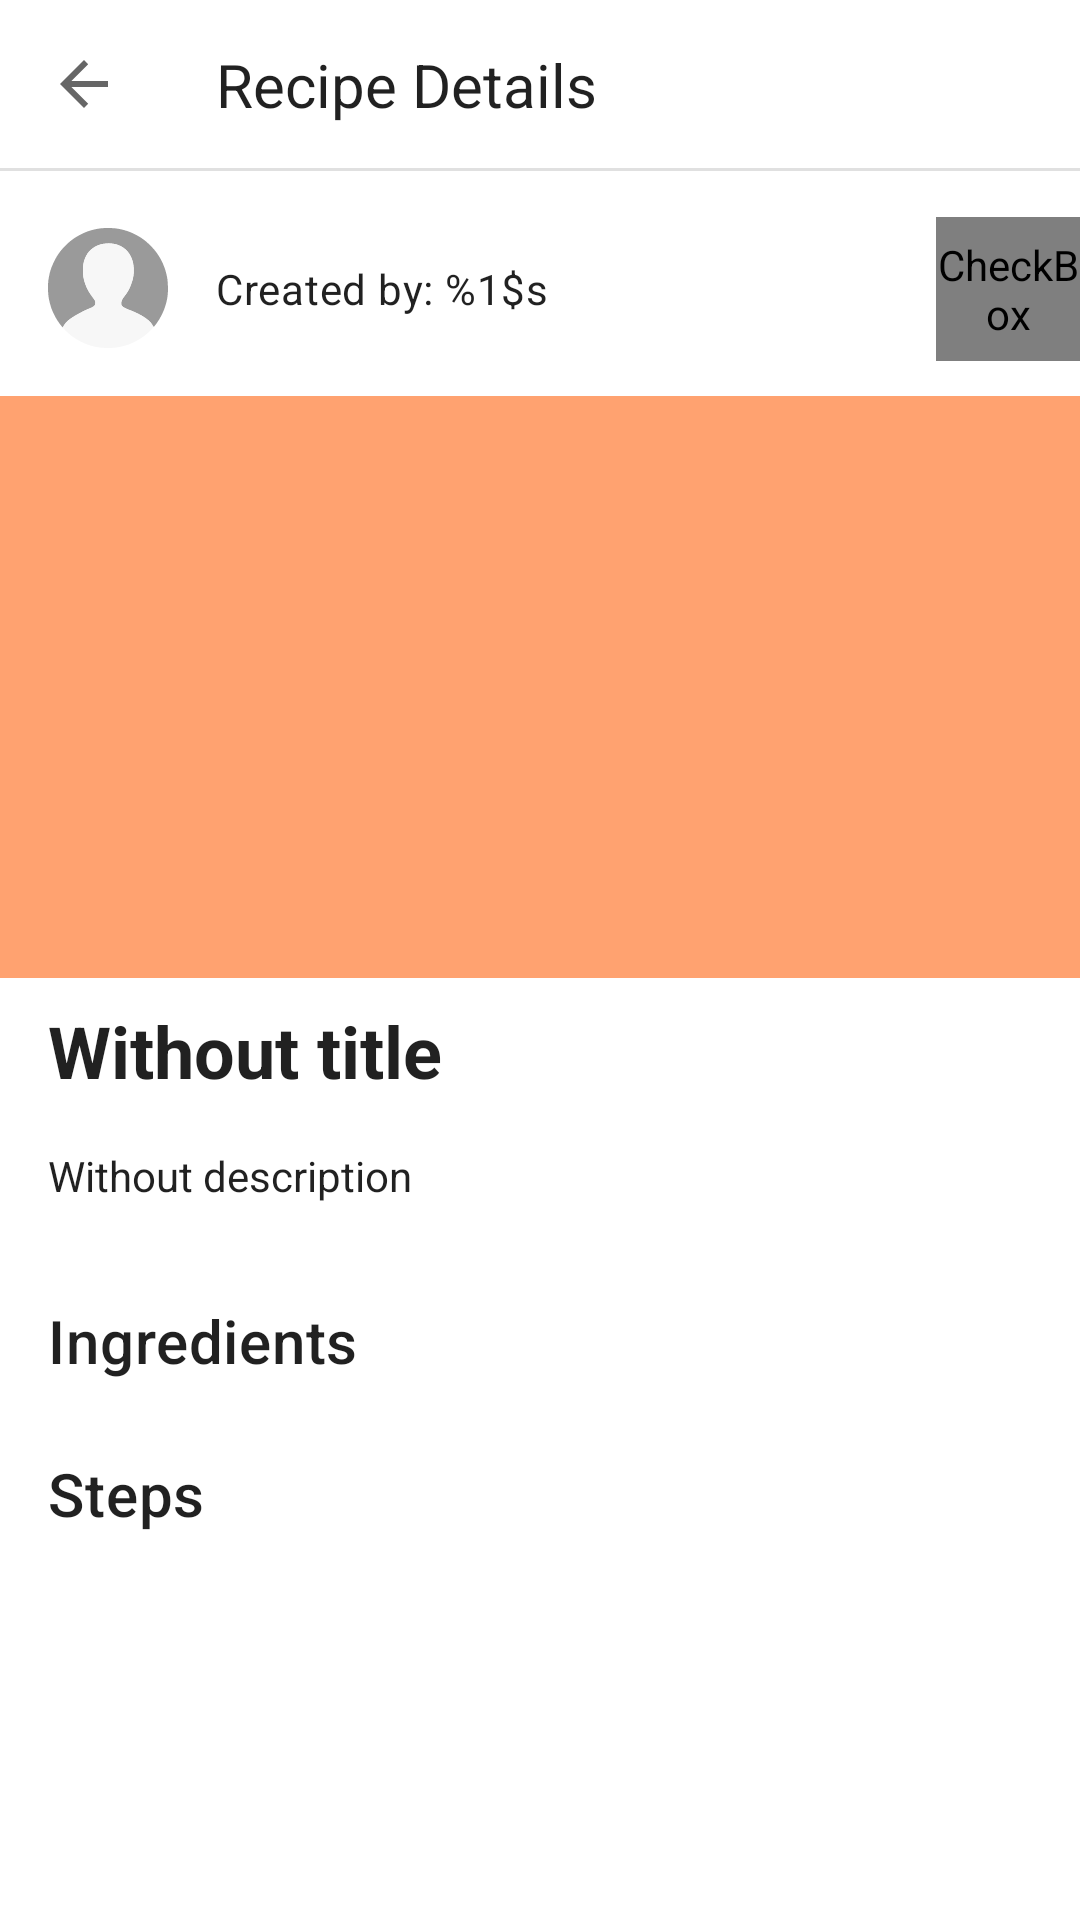

Icons on this 1080×1920 Android screen, each with the point to tap as (x,y):
Go back: (84,84)
User profile image: (108,277)
